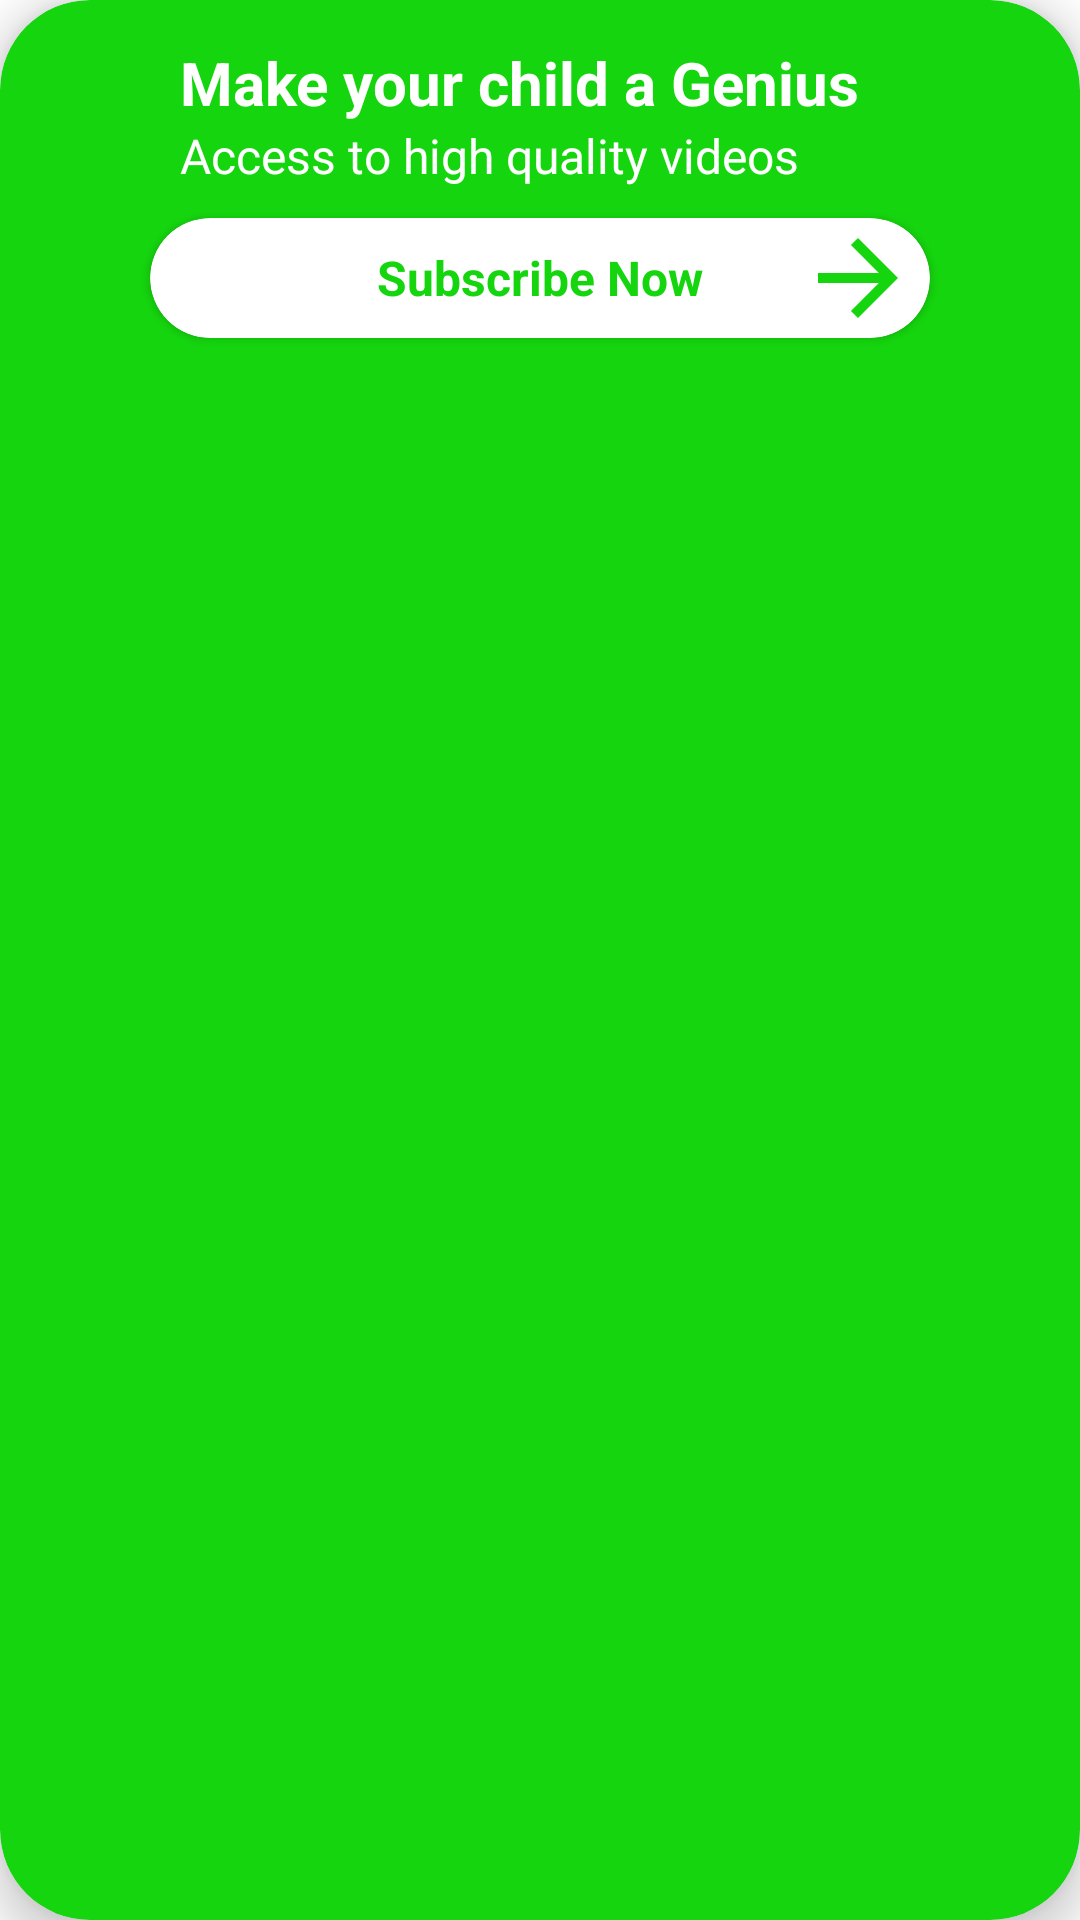

Screen size 1080x1920. Icon name, then its center in pixels as (x,y):
arrow: (858,278)
